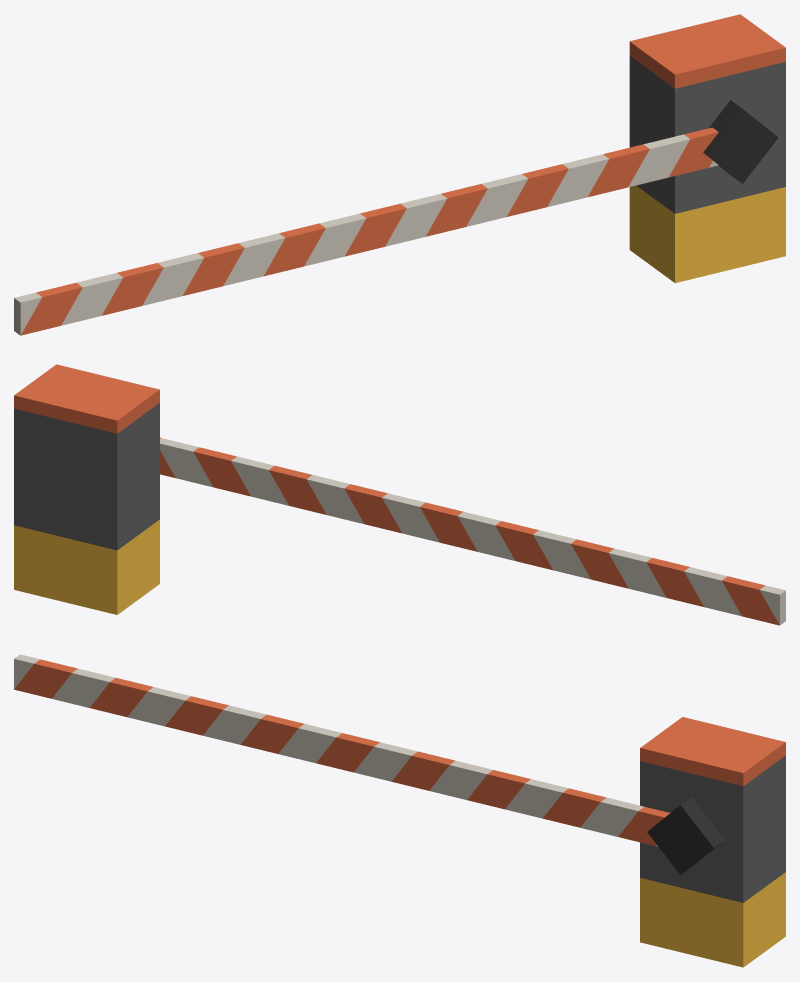
File: Barrier_2.fbx
3 views of the same model, one above another, from view 1: azimuth 30°, elevation 25°; view 2: azimuth 150°, elevation 25°; view 3: azimuth 330°, elevation 25° (orthographic). The views are drawn at different scales.
Parts seen in each view (by area): view 1: Barrier_2; view 2: Barrier_2; view 3: Barrier_2.
Boxes of the visible parts, bbox=[...] form: Barrier_2: bbox=[14, 14, 785, 335]; Barrier_2: bbox=[14, 364, 785, 625]; Barrier_2: bbox=[14, 654, 785, 967].
Bounding box in the file's own units: 7.84 × 2.02 × 1.01.
1 material, 1 textured.
